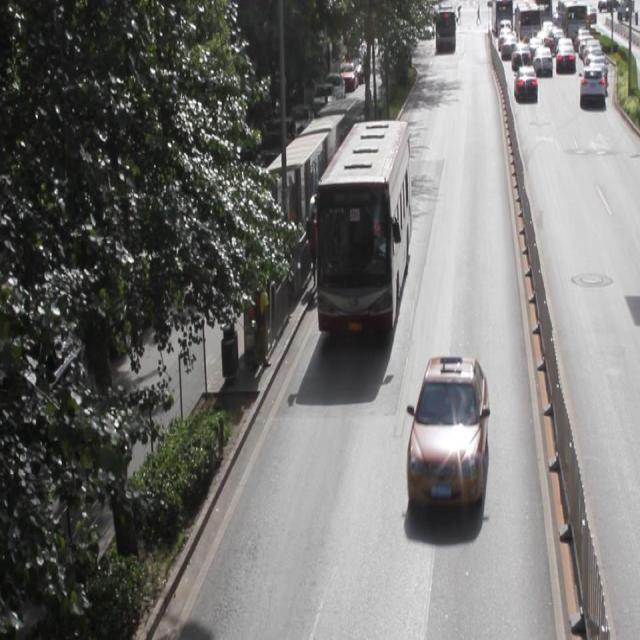car: (406, 352, 486, 507)
van: (314, 121, 408, 335)
